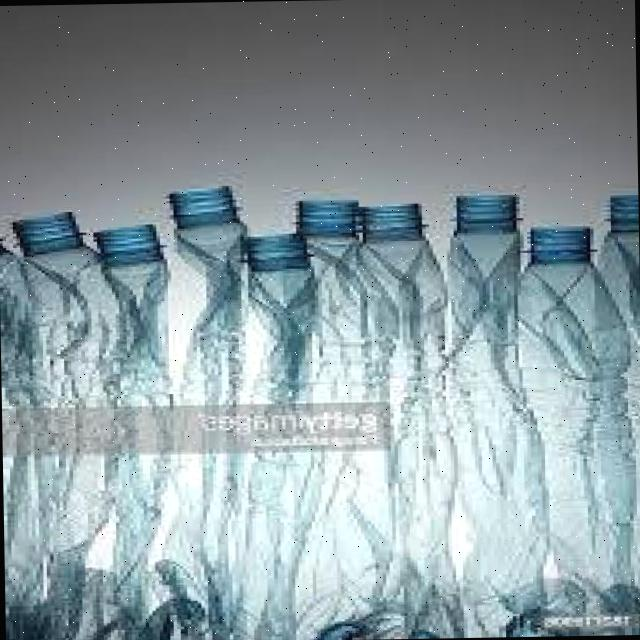bottle: (419, 188, 548, 638), (494, 218, 629, 630), (211, 228, 346, 640), (353, 202, 475, 640), (283, 194, 386, 640), (30, 203, 124, 640), (60, 220, 205, 392), (0, 229, 58, 640), (594, 189, 640, 630), (132, 178, 268, 312)
